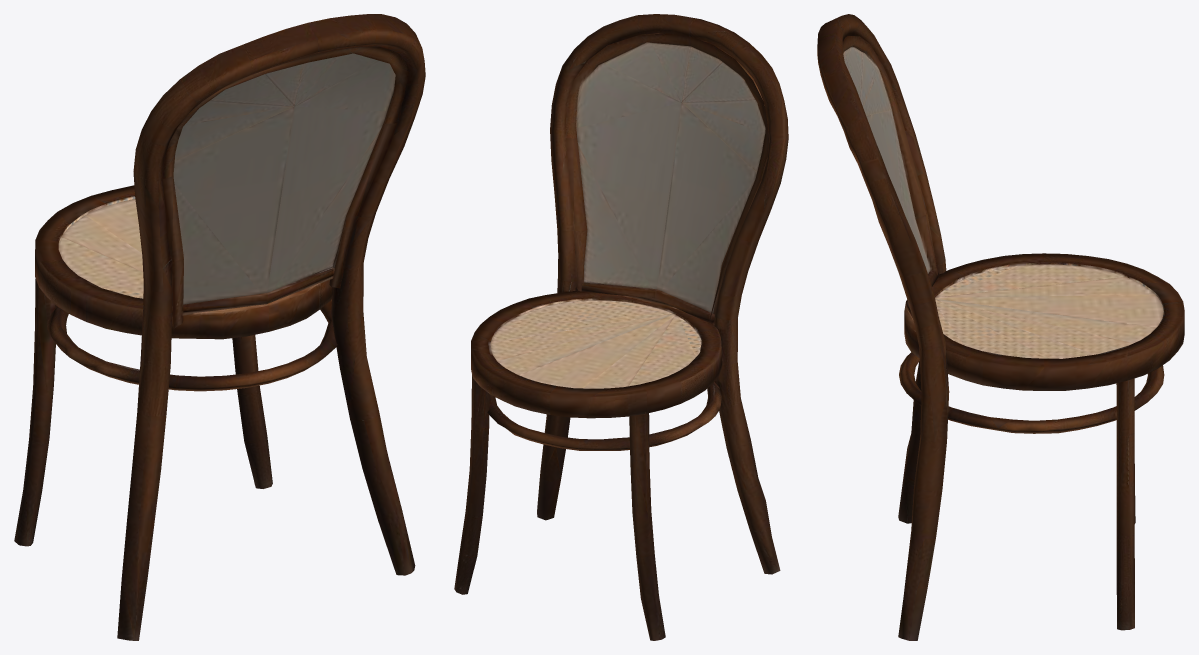
The model's file is mall-cafe-chair.glb.
3 renders of one model, left to right at view 1: azimuth 30°, elevation 25°; view 2: azimuth 150°, elevation 25°; view 3: azimuth 270°, elevation 25°, orthographic. The views are drawn at different scales.
Parts seen in each view (by area): view 1: cafe-chair; view 2: cafe-chair; view 3: cafe-chair.
Boxes of the visible parts, bbox=[...] form: cafe-chair: bbox=[14, 14, 425, 640]; cafe-chair: bbox=[454, 14, 788, 640]; cafe-chair: bbox=[817, 14, 1184, 640].
Size of the model in its own units: 0.447 by 0.88 by 0.5368.
Materials: 1 (1 with a texture image).
